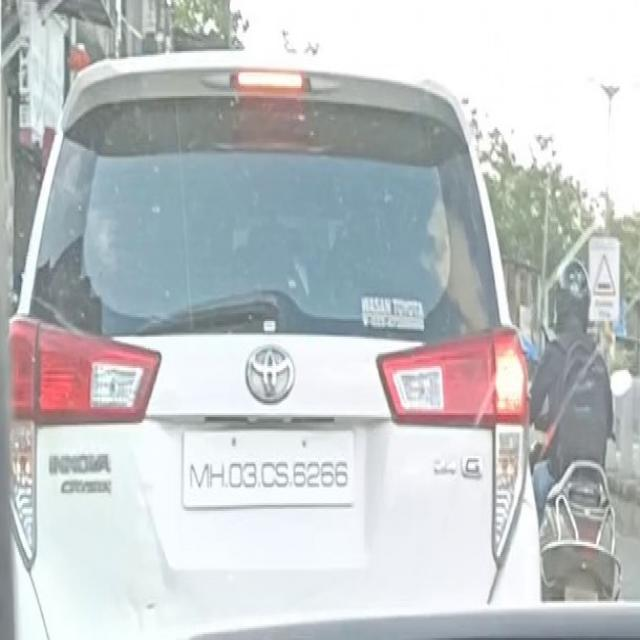Plate: (183, 434, 357, 504)
